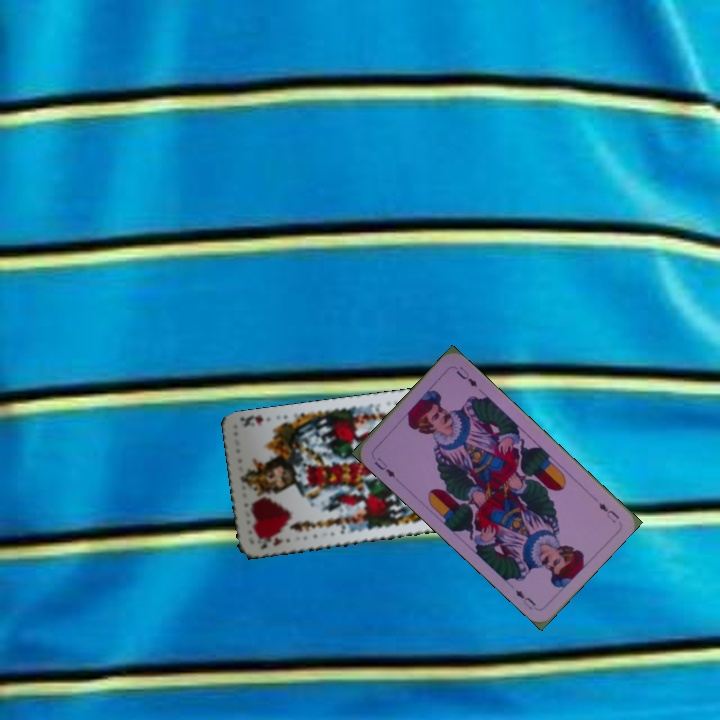EU: (595, 498, 622, 525), (370, 454, 398, 480)
HK: (256, 531, 285, 552)
